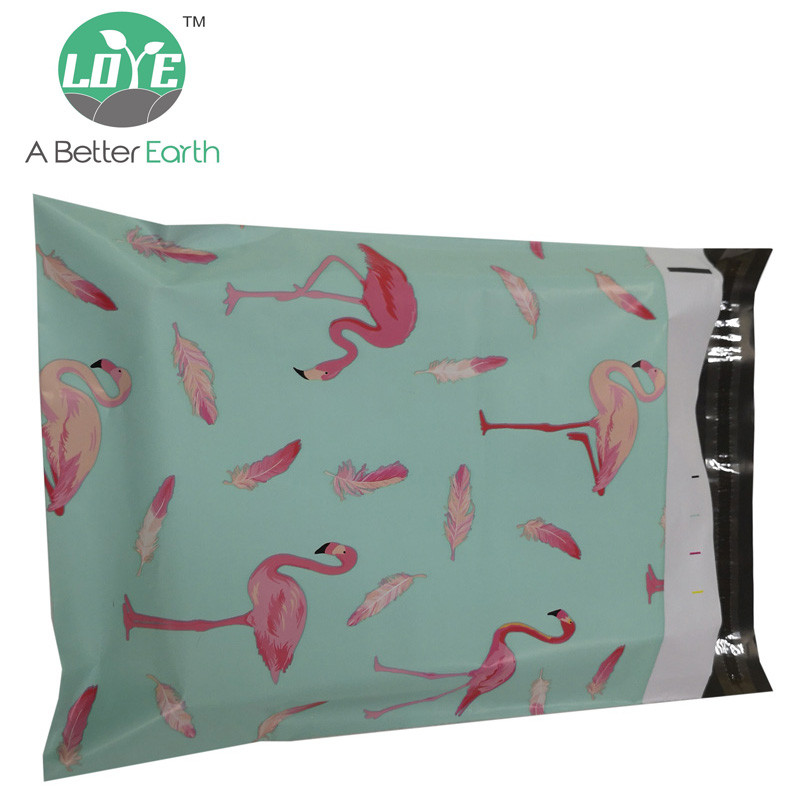Parcel: (35, 195, 774, 779)
